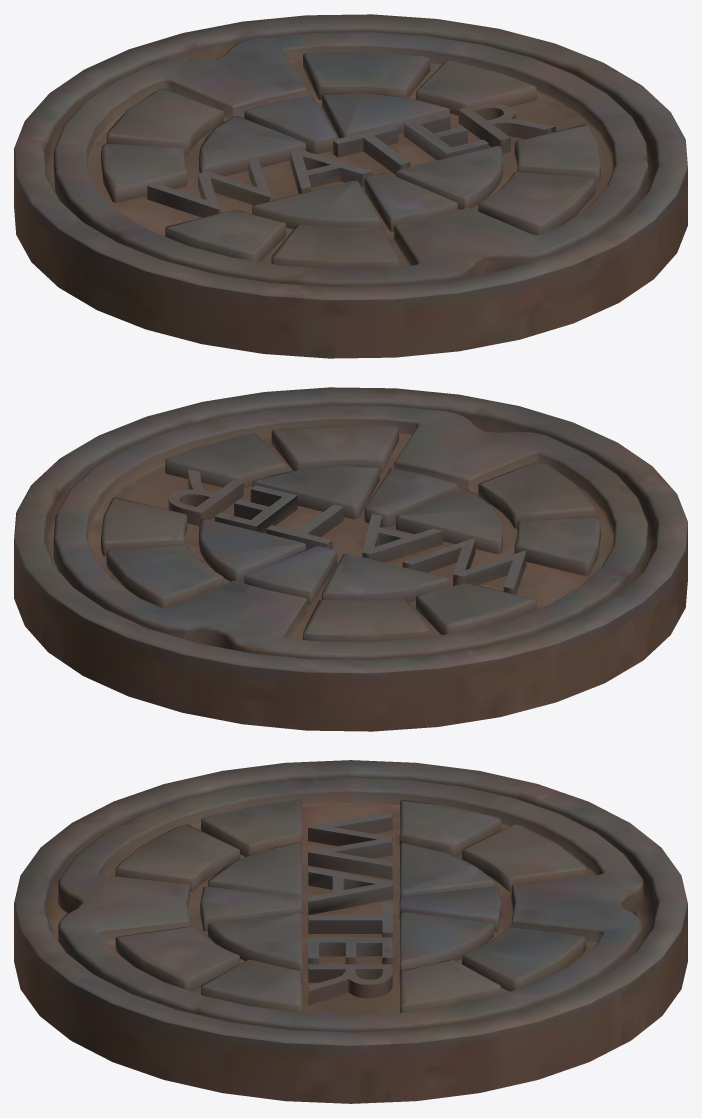
File: water_manhole_cover.glb
3 renders of one model, top to bottom at view 1: azimuth 30°, elevation 25°; view 2: azimuth 150°, elevation 25°; view 3: azimuth 270°, elevation 25°, orthographic.
Parts seen in each view (by area): view 1: water_manhole_cover, water_manhole_cover_frame; view 2: water_manhole_cover, water_manhole_cover_frame; view 3: water_manhole_cover, water_manhole_cover_frame.
Boxes of the visible parts, left/top/right/bottom form: water_manhole_cover: left=53, top=32, right=648, bottom=286; water_manhole_cover_frame: left=14, top=14, right=687, bottom=358; water_manhole_cover: left=53, top=405, right=648, bottom=659; water_manhole_cover_frame: left=14, top=387, right=687, bottom=731; water_manhole_cover: left=58, top=777, right=643, bottom=1032; water_manhole_cover_frame: left=14, top=760, right=687, bottom=1103.
Size of the model in its own units: 0.6908 by 0.0676 by 0.6908.
1 material, 1 textured.
